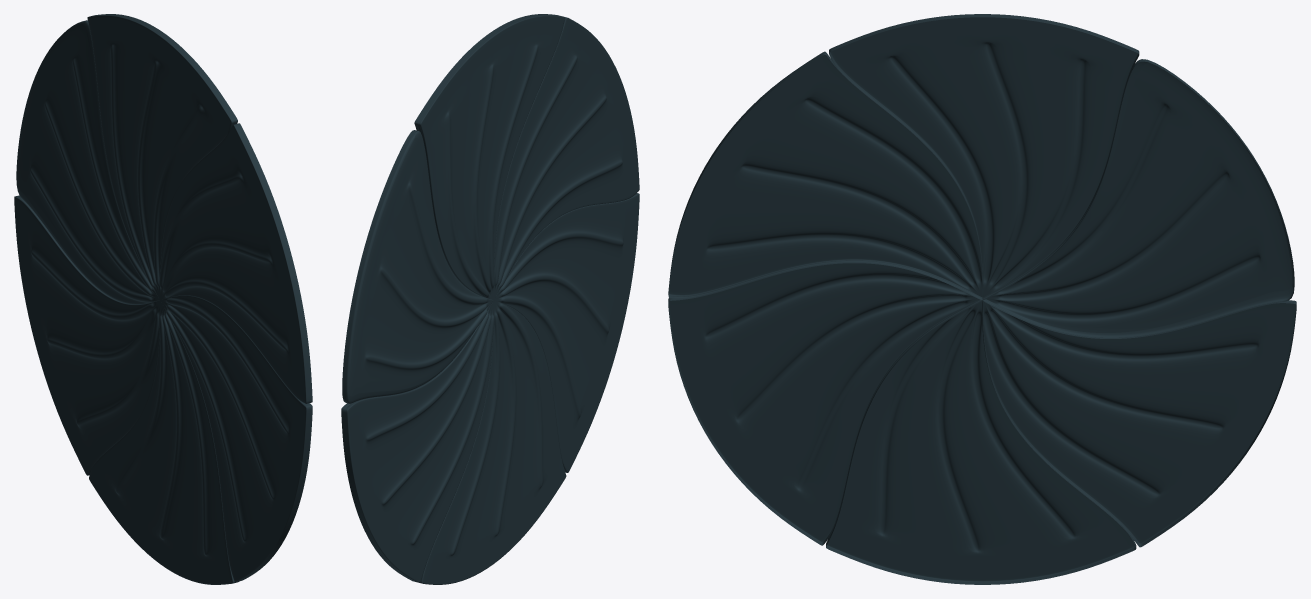
Rendered from Anime_GateOpen.fbx.
3 views of the same model, side by side, from view 1: azimuth 30°, elevation 25°; view 2: azimuth 150°, elevation 25°; view 3: azimuth 270°, elevation 25° (orthographic). The views are drawn at different scales.
Visible parts, largest first — view 1: Circle.004, Circle.003, Circle.005, Circle.001, Circle.002, Circle; view 2: Circle, Circle.005, Circle.001, Circle.004, Circle.003, Circle.002; view 3: Circle.005, Circle.004, Circle, Circle.001, Circle.002, Circle.003.
Boxes of the visible parts, left/top/right/bottom form: Circle.004: left=159, top=123, right=312, bottom=403; Circle.003: left=160, top=295, right=312, bottom=582; Circle.005: left=87, top=14, right=237, bottom=299; Circle.001: left=14, top=195, right=159, bottom=475; Circle.002: left=89, top=300, right=239, bottom=584; Circle: left=16, top=20, right=159, bottom=304; Circle: left=342, top=130, right=493, bottom=403; Circle.005: left=414, top=14, right=564, bottom=299; Circle.001: left=341, top=301, right=494, bottom=582; Circle.004: left=493, top=17, right=639, bottom=299; Circle.003: left=494, top=193, right=639, bottom=472; Circle.002: left=420, top=300, right=566, bottom=584; Circle.005: left=829, top=14, right=1139, bottom=299; Circle.004: left=668, top=51, right=983, bottom=299; Circle: left=982, top=59, right=1294, bottom=338; Circle.001: left=982, top=300, right=1296, bottom=547; Circle.002: left=826, top=300, right=1136, bottom=584; Circle.003: left=668, top=263, right=982, bottom=545.
Bounding box in the file's own units: 0.0679 × 3.98 × 3.99.
